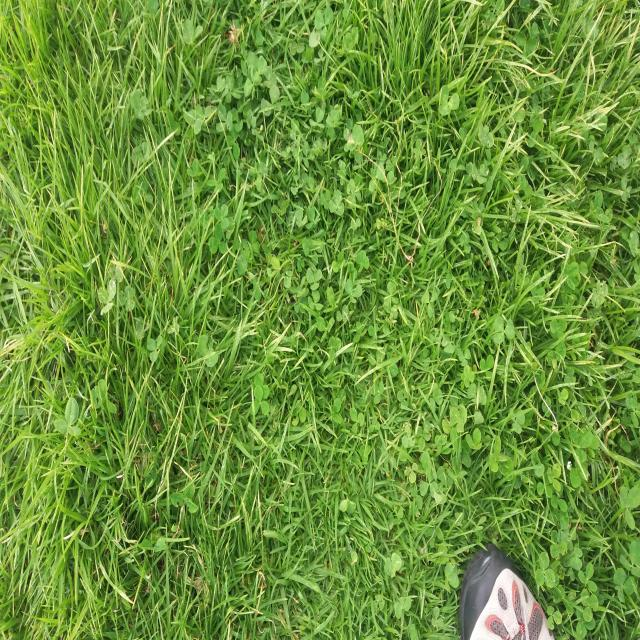Four Leaf Clover: (304, 143, 353, 213), (470, 408, 498, 455), (347, 124, 364, 164)
